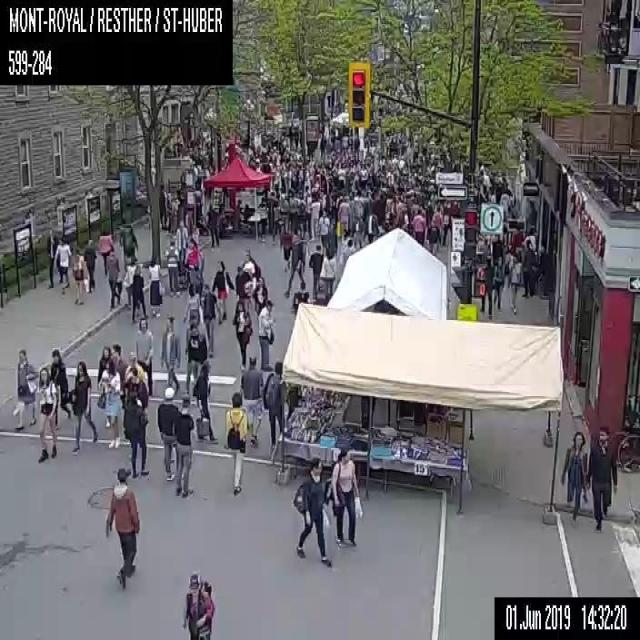pedestrian: (292, 456, 330, 567), (105, 466, 139, 589), (586, 427, 617, 530), (330, 448, 362, 546), (70, 360, 97, 453), (122, 385, 149, 476), (560, 430, 586, 523), (172, 396, 194, 498), (225, 391, 247, 493), (180, 572, 214, 638), (192, 358, 218, 443), (239, 354, 263, 446), (35, 367, 57, 462), (12, 348, 37, 431), (97, 358, 120, 448), (262, 361, 285, 448), (157, 387, 177, 479), (159, 315, 180, 394), (184, 323, 207, 394), (50, 348, 70, 428), (210, 260, 234, 324), (200, 283, 220, 356), (232, 298, 252, 369), (283, 233, 305, 297), (135, 318, 152, 395), (184, 236, 204, 295), (258, 299, 274, 370), (105, 244, 122, 310), (148, 254, 164, 316), (111, 344, 126, 408), (164, 240, 181, 296), (130, 264, 146, 322), (291, 280, 315, 318), (507, 254, 522, 314), (118, 223, 137, 270), (478, 255, 492, 318), (124, 351, 147, 389), (182, 282, 200, 330), (98, 228, 114, 281), (46, 227, 60, 287), (521, 238, 535, 296), (54, 237, 70, 287), (234, 264, 252, 308), (82, 238, 96, 292), (320, 244, 335, 294), (308, 243, 323, 292), (122, 257, 136, 309), (252, 276, 268, 319), (492, 255, 504, 310), (97, 345, 112, 387), (72, 248, 83, 304), (240, 247, 260, 277), (337, 196, 350, 242), (267, 190, 278, 244), (206, 200, 218, 246), (350, 212, 364, 250), (426, 219, 440, 255), (410, 208, 424, 243), (257, 196, 267, 244), (365, 207, 378, 243), (309, 196, 319, 242), (339, 238, 352, 273), (442, 200, 452, 245), (296, 196, 306, 237), (158, 184, 167, 229), (175, 220, 188, 248), (318, 210, 328, 246), (304, 184, 310, 233), (431, 206, 443, 230), (492, 234, 503, 255), (478, 237, 490, 254), (360, 164, 367, 188), (337, 166, 345, 187)
